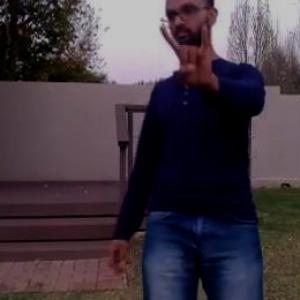takeoff-hand: (156, 15, 224, 93)
